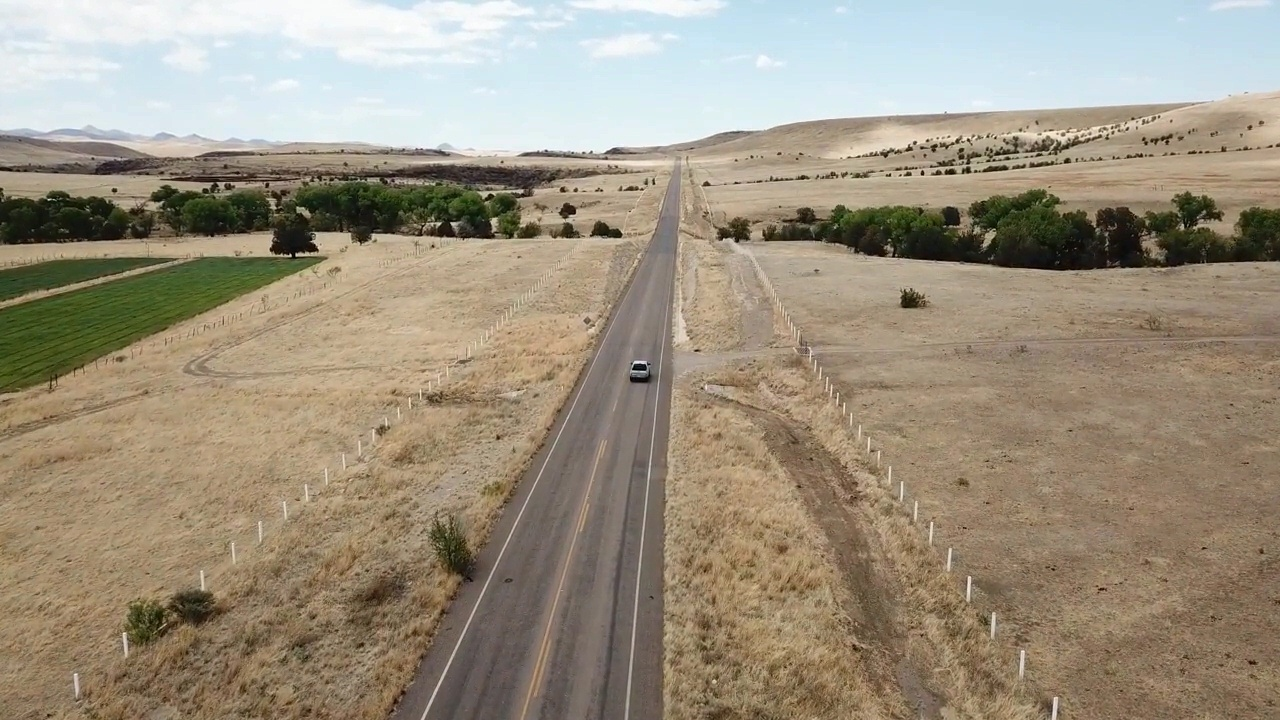araba: (630, 359, 650, 383)
